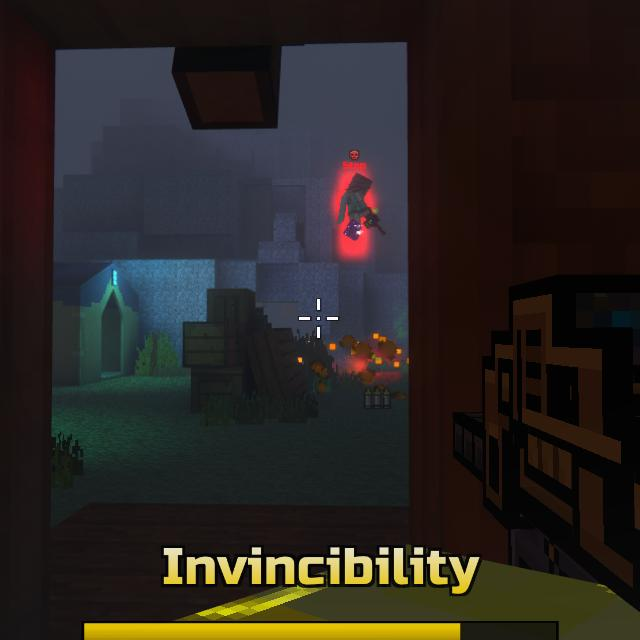Enemy: (342, 173, 374, 239)
